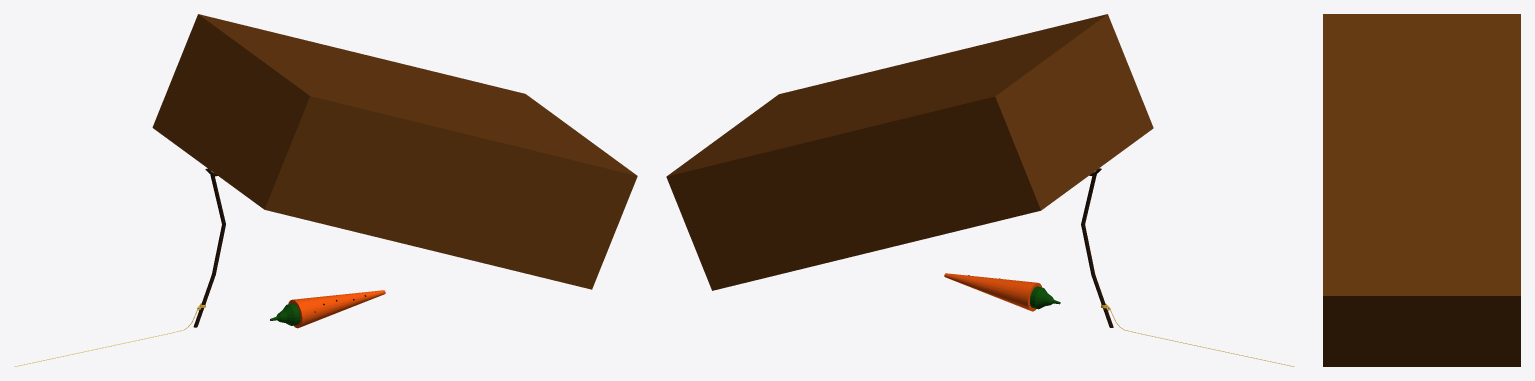
File: Rabbit Trap.FBX
The picture shows the model from 3 angles, left to right: view 1: azimuth 30°, elevation 25°; view 2: azimuth 150°, elevation 25°; view 3: azimuth 270°, elevation 25°; orthographic projection. The views are drawn at different scales.
Parts seen in each view (by area): view 1: Object001; view 2: Object001; view 3: Object001.
Boxes of the visible parts, left/top/right/bottom form: Object001: left=14, top=14, right=637, bottom=366; Object001: left=666, top=14, right=1294, bottom=366; Object001: left=1323, top=14, right=1520, bottom=366.
Bounding box in the file's own units: 94.79 × 43.06 × 32.38.
